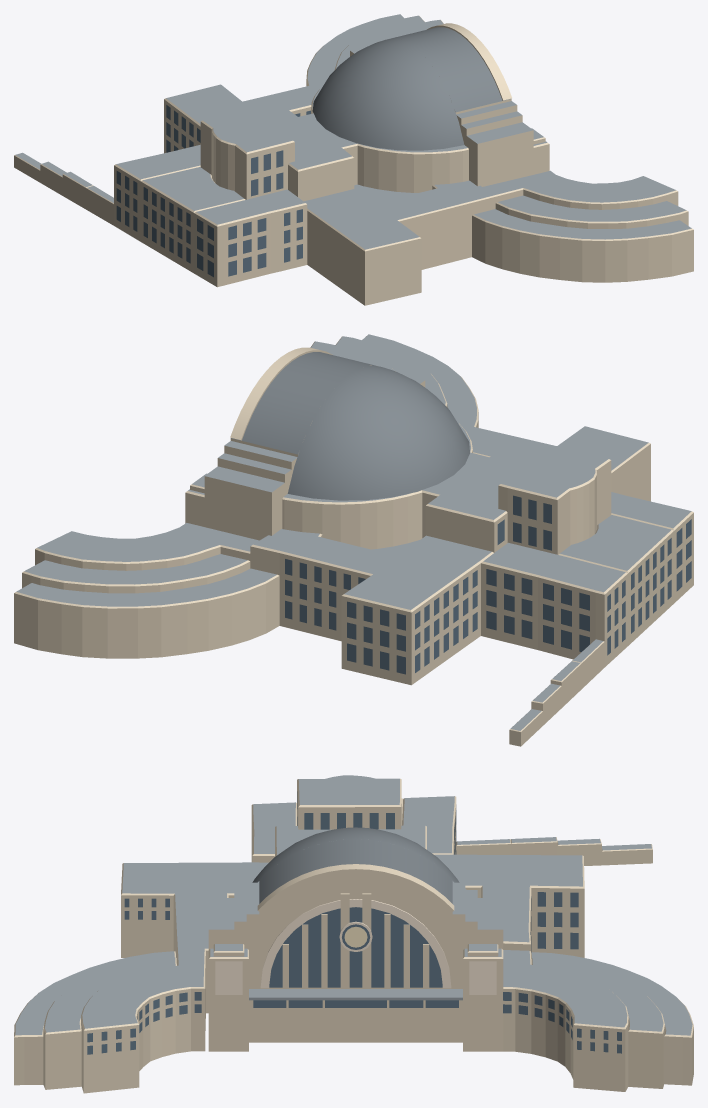
File: cin-union-terminal.glb
The picture shows the model from 3 angles, top to bottom: view 1: azimuth 30°, elevation 25°; view 2: azimuth 150°, elevation 25°; view 3: azimuth 270°, elevation 25°; orthographic projection. The views are drawn at different scales.
Parts seen in each view (by area): view 1: Cincinnati Union Terminal; view 2: Cincinnati Union Terminal; view 3: Cincinnati Union Terminal.
Boxes of the visible parts, x1,y1,x2,y2 form: Cincinnati Union Terminal: [14, 14, 693, 305]; Cincinnati Union Terminal: [14, 334, 693, 746]; Cincinnati Union Terminal: [14, 775, 693, 1093].
Bounding box in the file's own units: 138 × 47.45 × 169.
